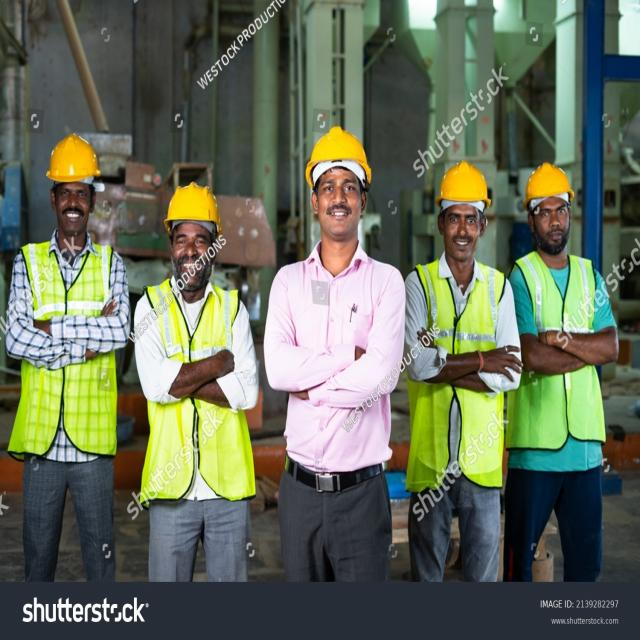Reflective-Jacket: (138, 285, 255, 500), (9, 242, 119, 458), (408, 263, 510, 487), (507, 251, 607, 456)
Safety-Helmet: (302, 121, 374, 185), (44, 130, 105, 186), (433, 155, 492, 211), (162, 179, 224, 230), (520, 156, 576, 208)
